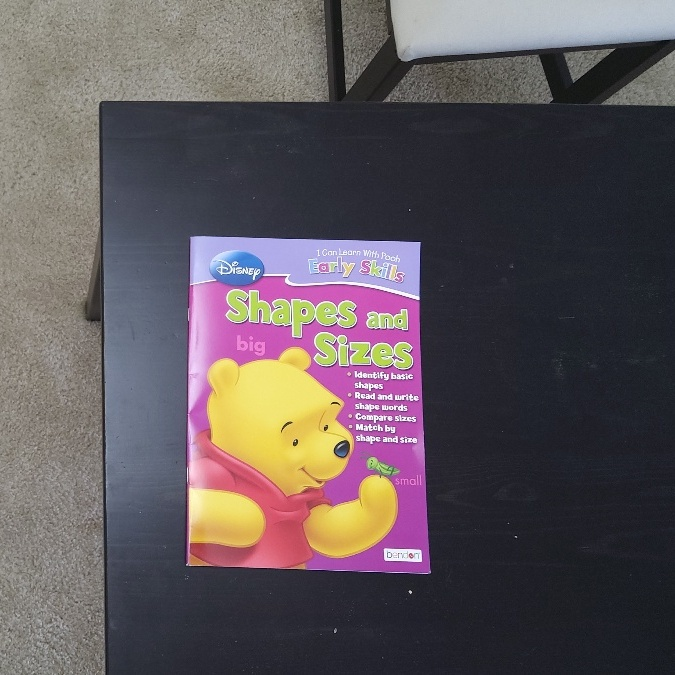book: (189, 237, 423, 573)
